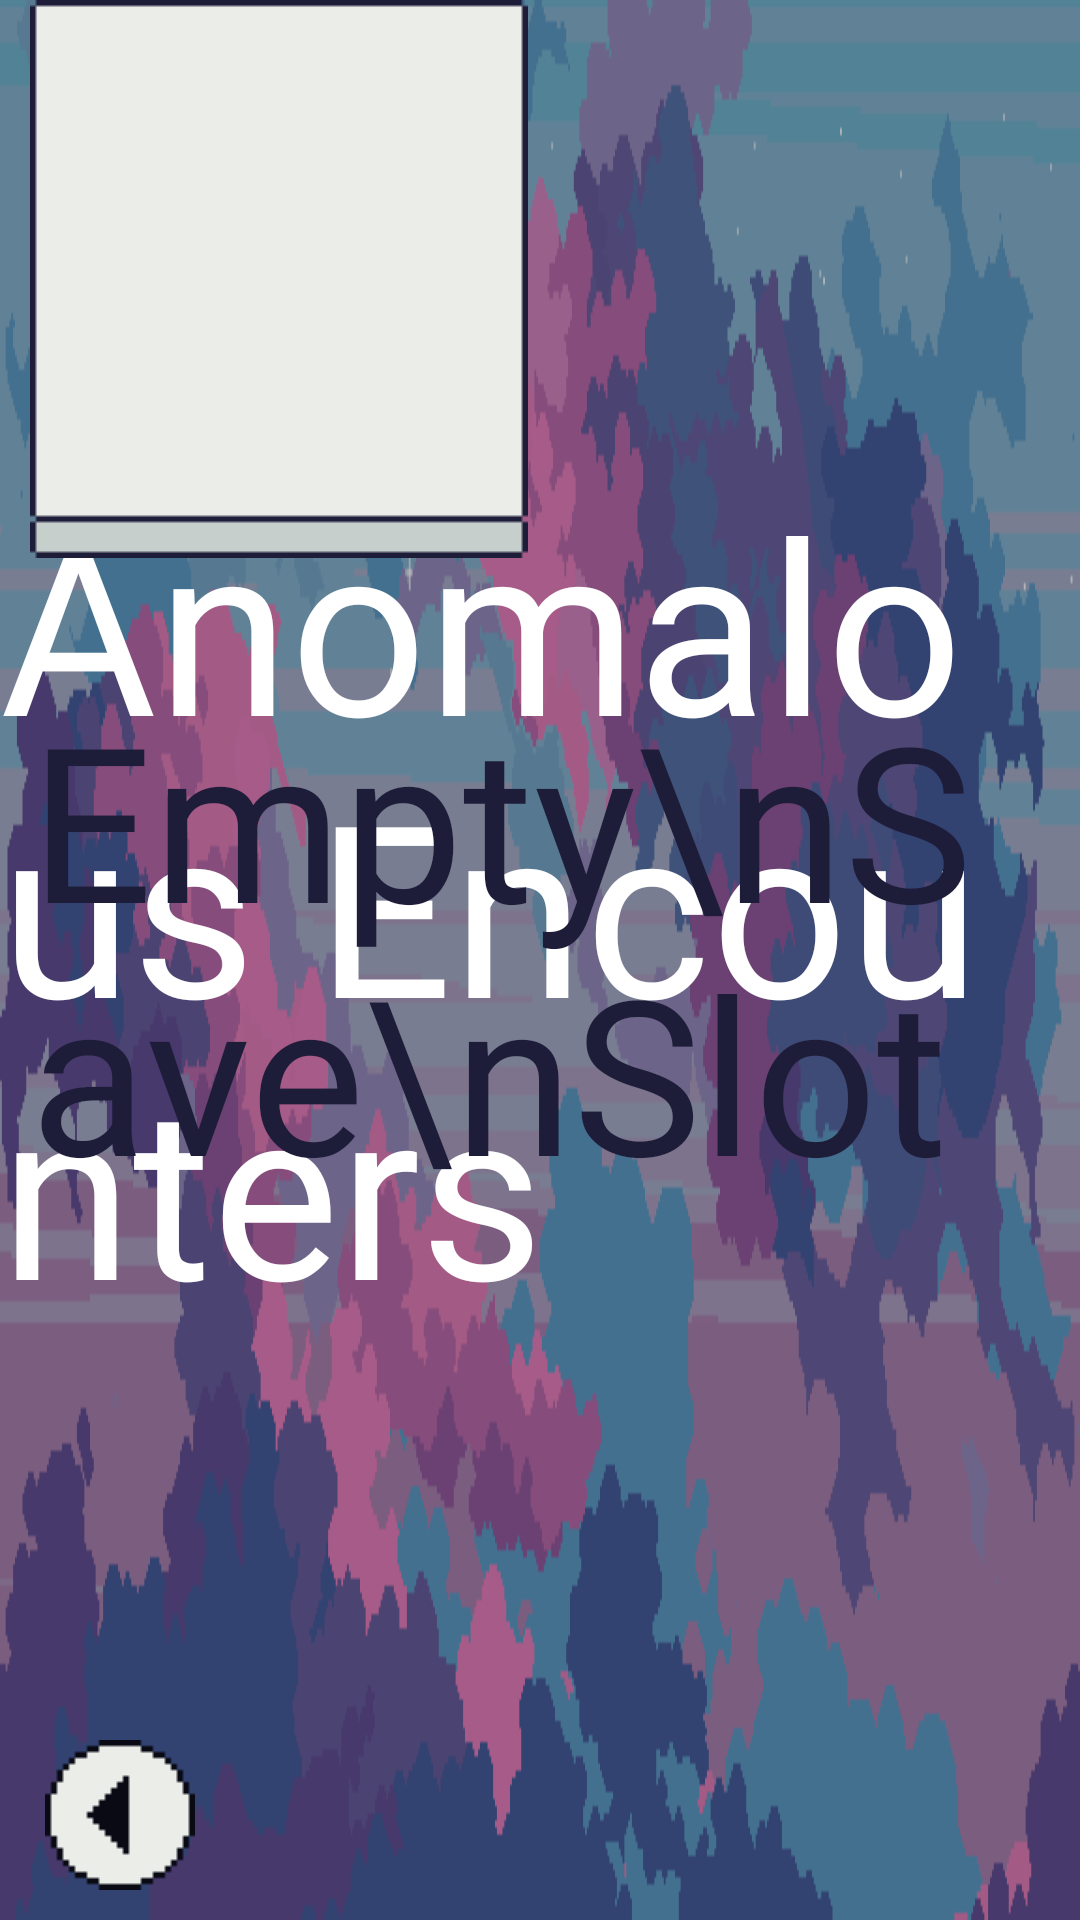

Locate icon controls on the screen. Image size 1080 x 1920, boxes as (x1, y1, x2, y2).
back: (45, 1740, 195, 1890)
